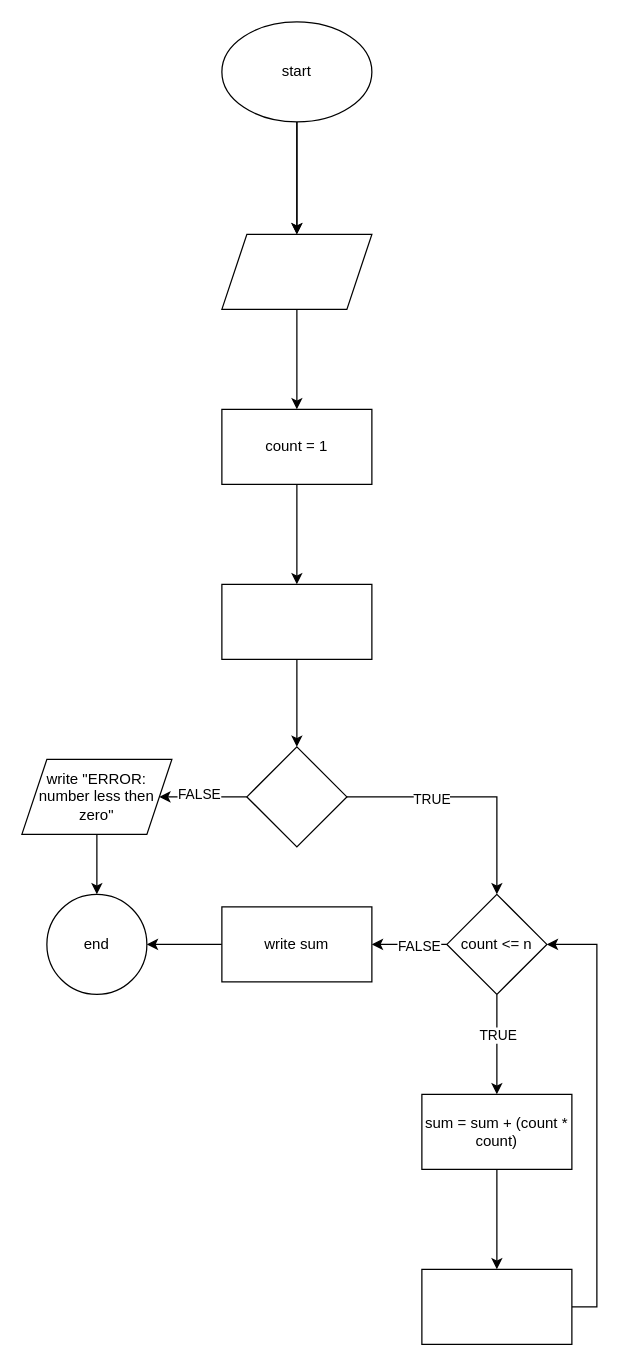
Image size: 629x1366. Some labels were removed from this diagram. The shapes that lost their labels are listed below. From the top down, each one's centre as x and y in pixels, then its label:
At pixel 296 271: "read n".
At pixel 296 621: "sum = 0".
At pixel 296 796: "if n > 0".
At pixel 496 1306: "count += 1".
